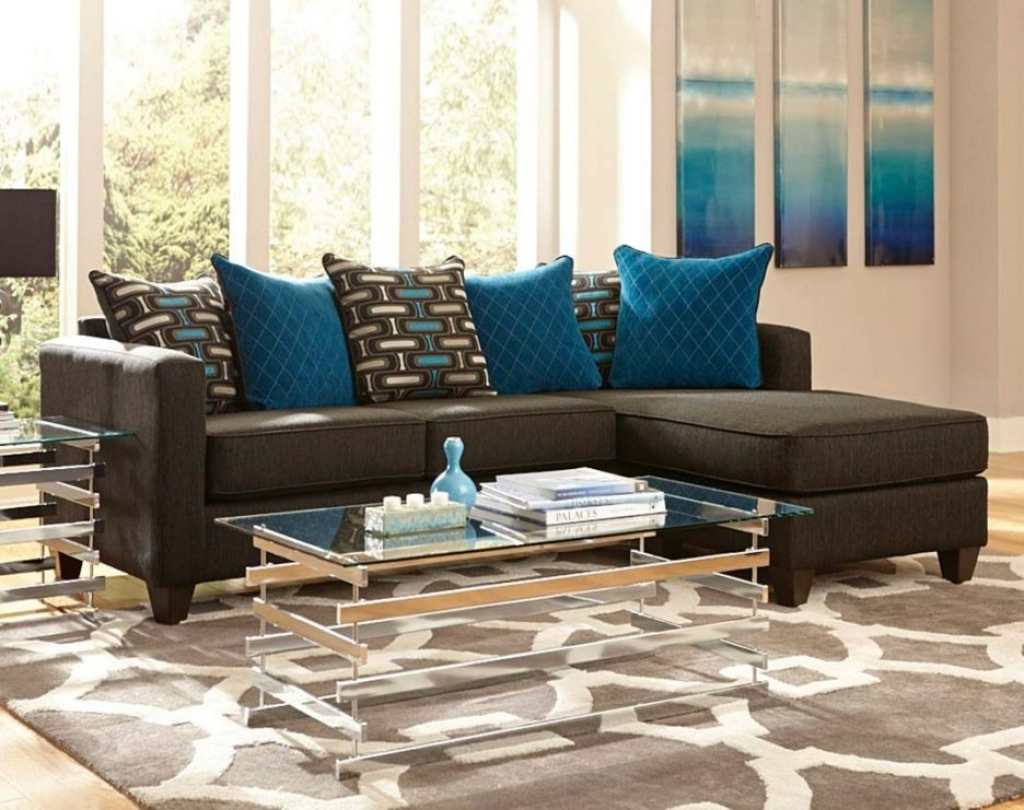chairs: (38, 252, 1008, 624)
